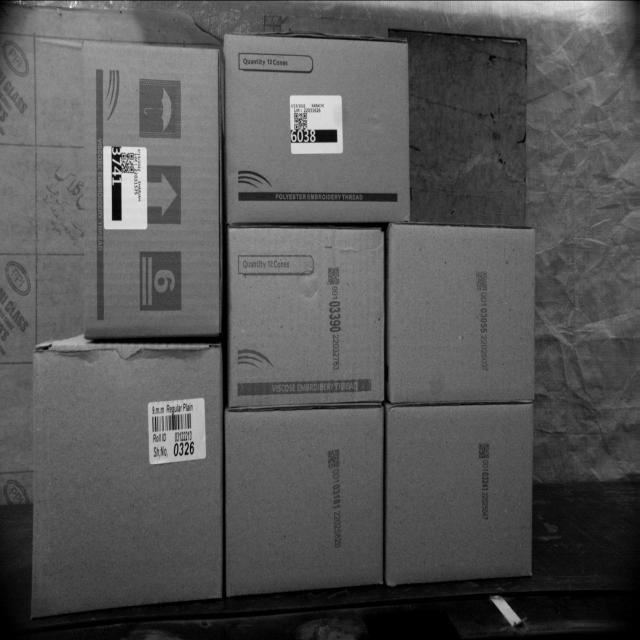cardboxes: (32, 342, 224, 615), (86, 38, 222, 339), (226, 32, 411, 220), (224, 409, 384, 594), (227, 223, 382, 403), (388, 224, 534, 403), (387, 406, 533, 585)
